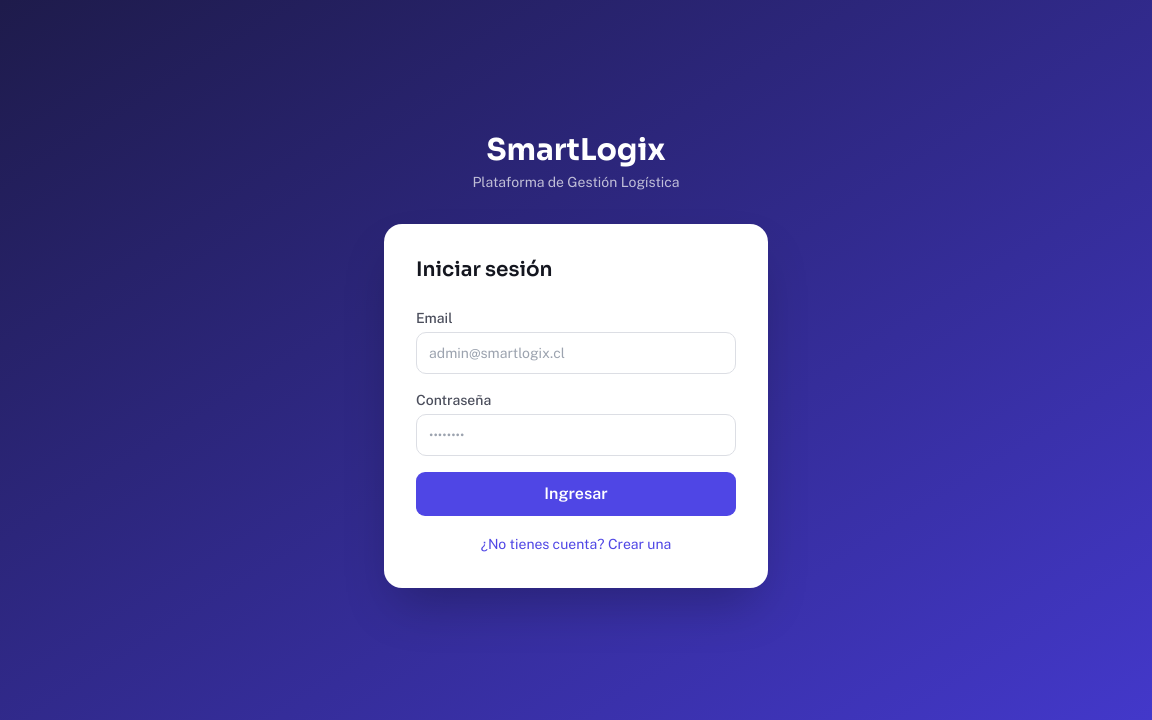
Test: Login › shows the backend error message when login is rejected
Step 1. Type "user@smartlogix.cl" into the field labelled "Email" → coordinates (576, 353), box [416,332,736,374]
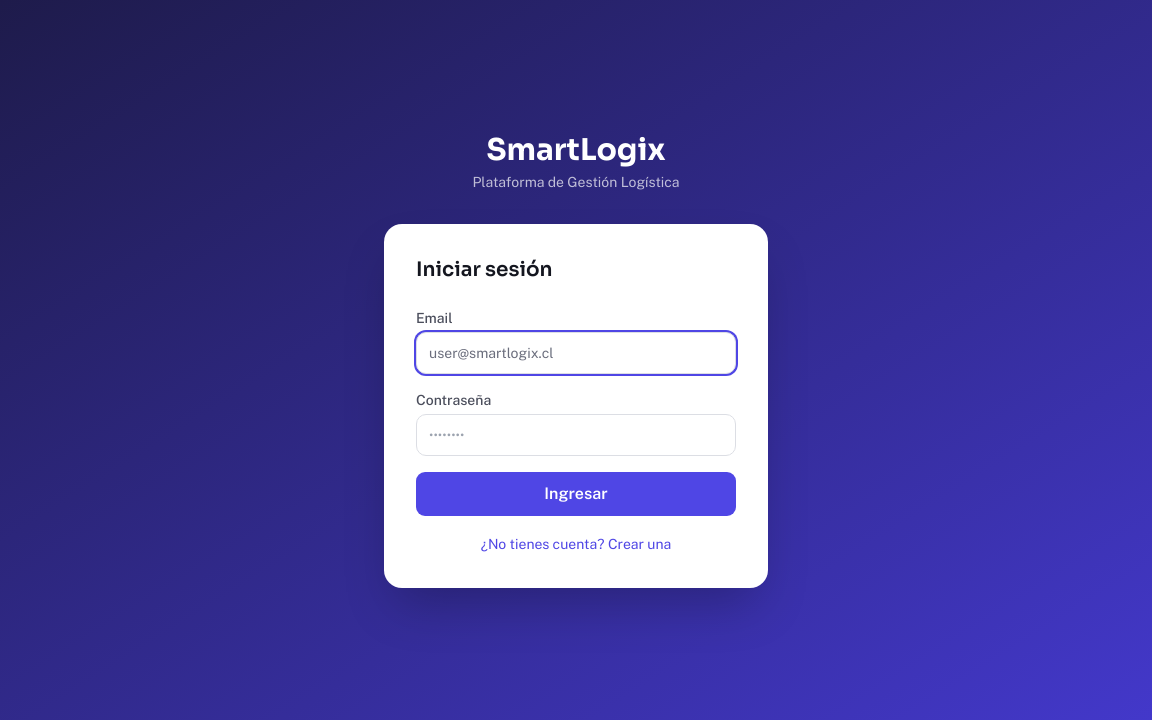
Step 2. Type "wrong-pass" into the password field labelled "Contraseña" → coordinates (576, 435), box [416,414,736,456]
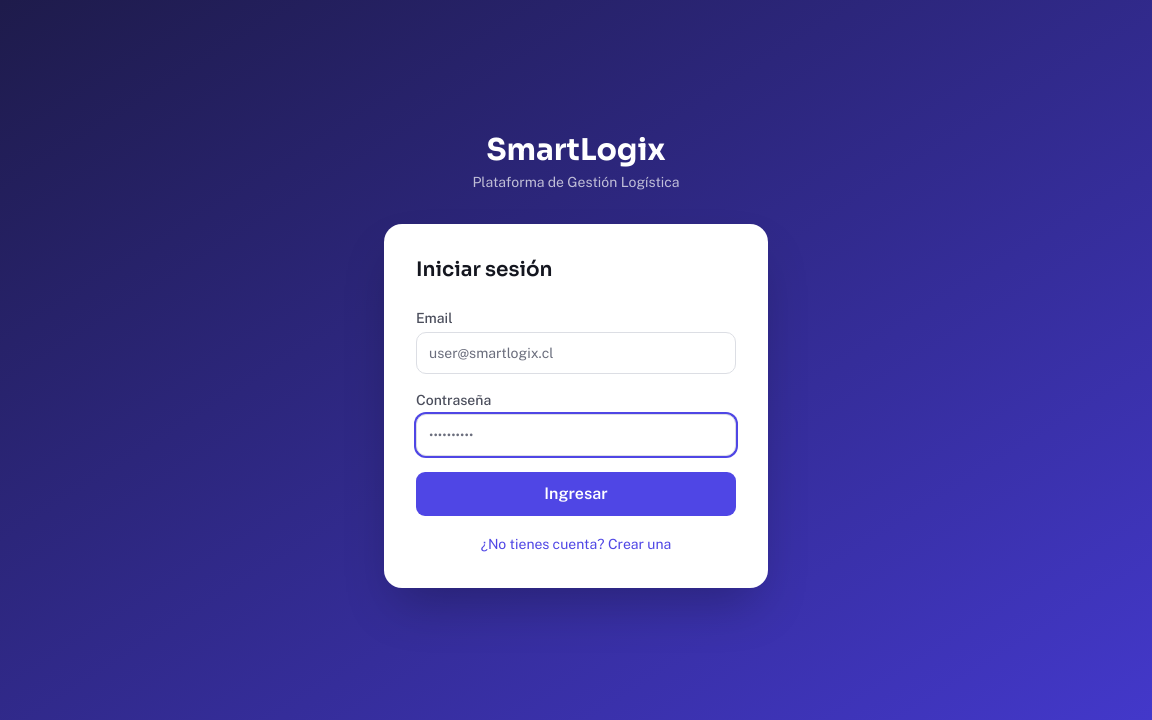
Step 3. Click the button "Ingresar" → coordinates (576, 494), box [416,472,736,516]
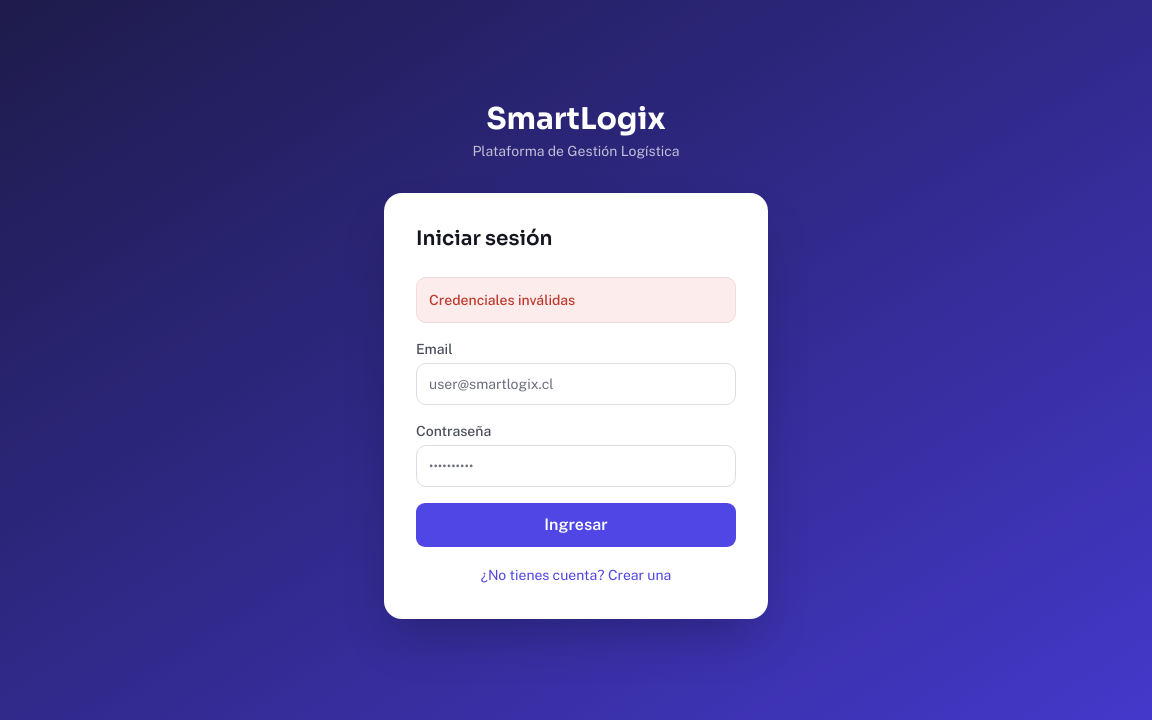
expect the text "Credenciales inválidas" is shown: met, box [416,277,736,323]
